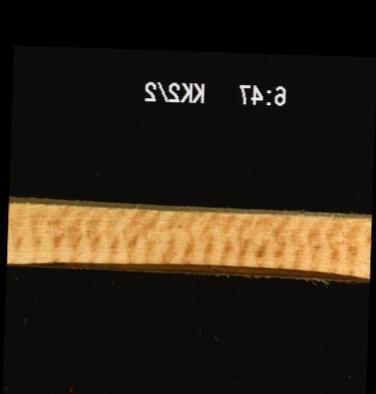wave: (5, 261, 368, 275)
